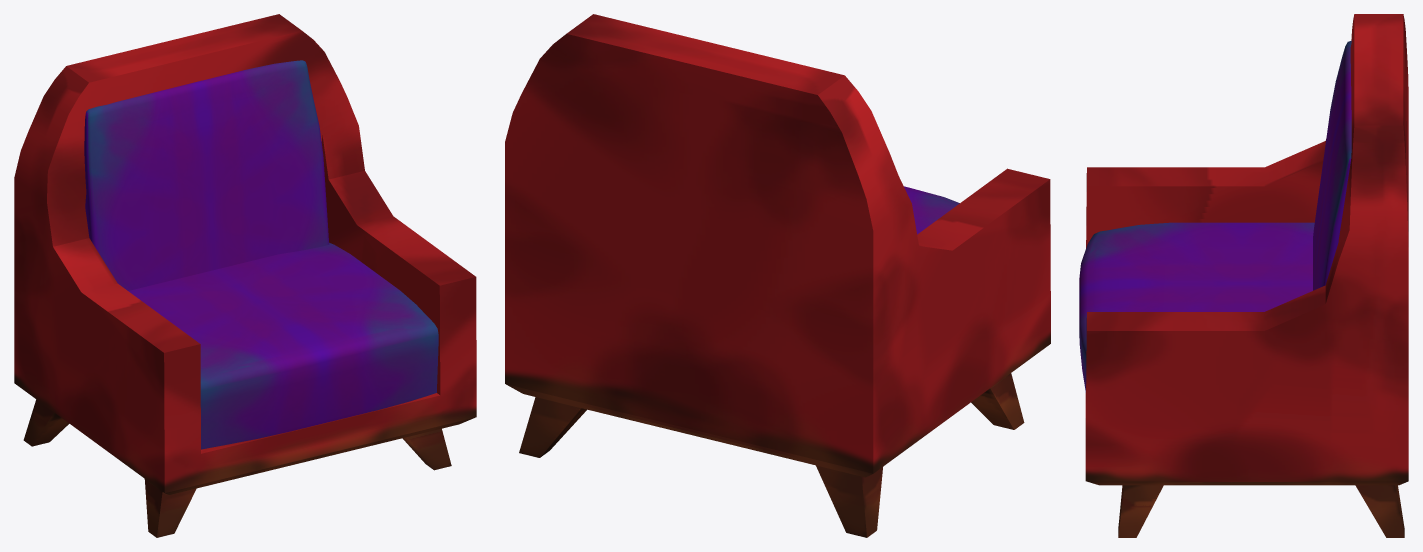
The model's file is Sofa.glb.
3 renders of one model, left to right at view 1: azimuth 30°, elevation 25°; view 2: azimuth 150°, elevation 25°; view 3: azimuth 270°, elevation 25°, orthographic. The views are drawn at different scales.
Visible parts, largest first — view 1: Cube, Cube.002, Cube.001; view 2: Cube, Cube.001; view 3: Cube, Cube.001, Cube.002.
Boxes of the visible parts, x1,y1,x2,y2 form: Cube: [14, 14, 476, 537]; Cube.002: [84, 60, 329, 290]; Cube.001: [128, 242, 438, 449]; Cube: [505, 14, 1050, 537]; Cube.001: [904, 186, 959, 234]; Cube: [1085, 14, 1408, 537]; Cube.001: [1079, 222, 1314, 392]; Cube.002: [1313, 40, 1351, 290].
Size of the model in its own units: 0.8873 by 0.9904 by 0.7556.
Materials: 2 (2 with a texture image).
